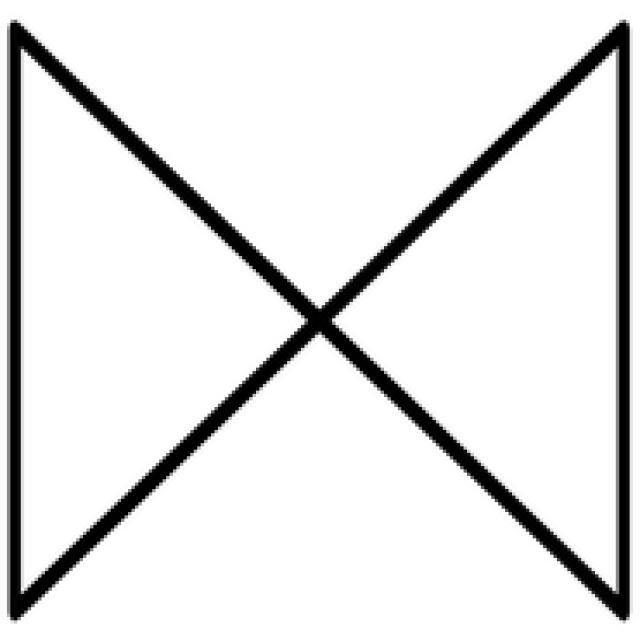Gate valve: (12, 28, 625, 616)
